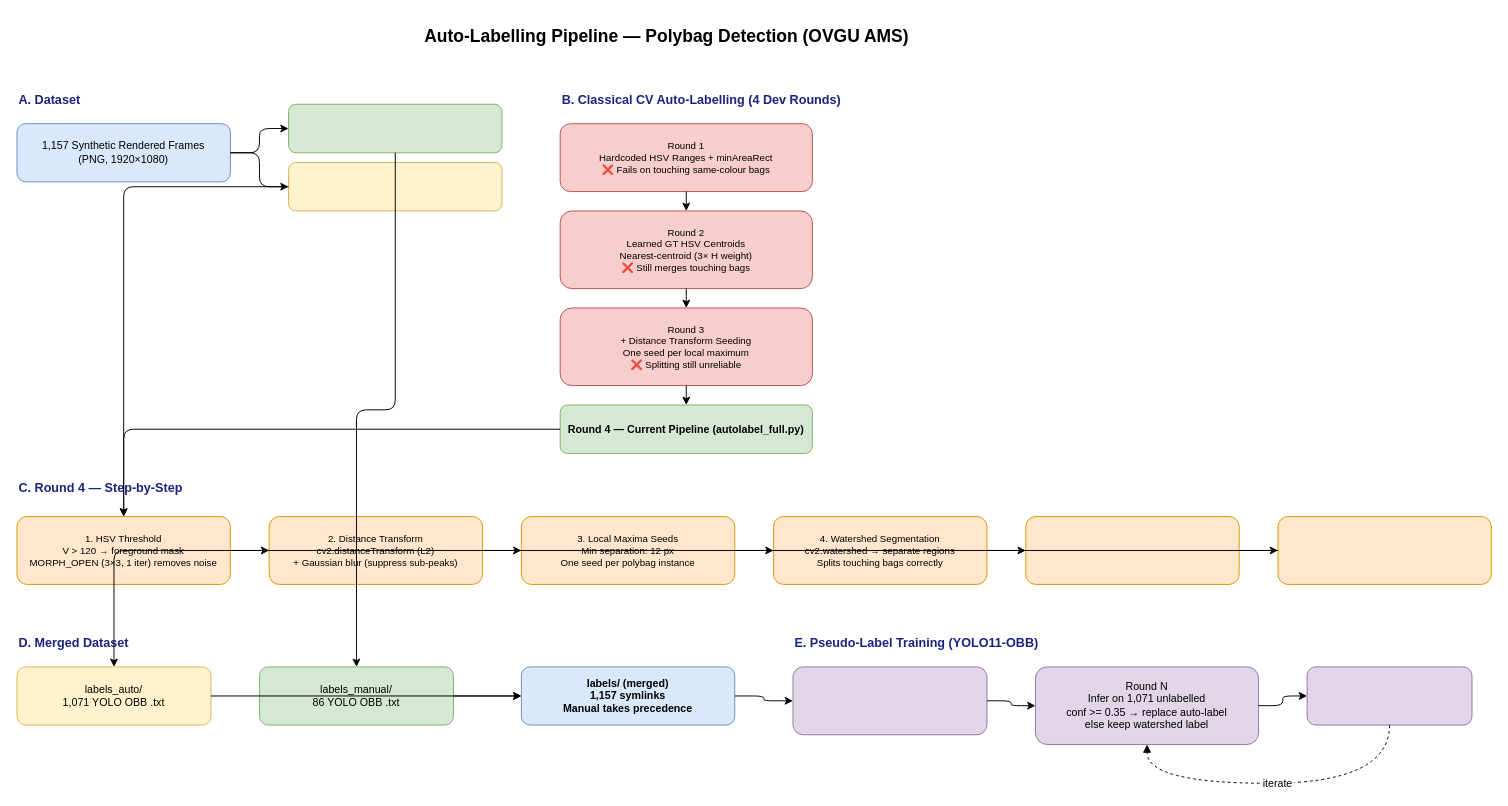
The diagram is 1508 pixels wide and 806 high, and some of its shapes have lost their labels. Here are the shapes that lost their labels. From the top down, the box of each, then its label:
(288, 103, 502, 153): 86 Manually Annotated (LabelMe JSON, frames 0200–0969)
(288, 162, 502, 211): 1,071 Unlabelled Frames
(1025, 516, 1239, 584): 5. Colour Classification Median HSV per region Nearest-centroid (3× H weight)
(1277, 516, 1491, 584): 6. OBB Fitting approxPolyDP (eps 0.02→0.15) Fallback: minAreaRect
(792, 666, 987, 735): Round 0 Train on 86 GT images 100 epochs, imgsz=1920
(1306, 666, 1472, 725): best.pt (improved weights)
